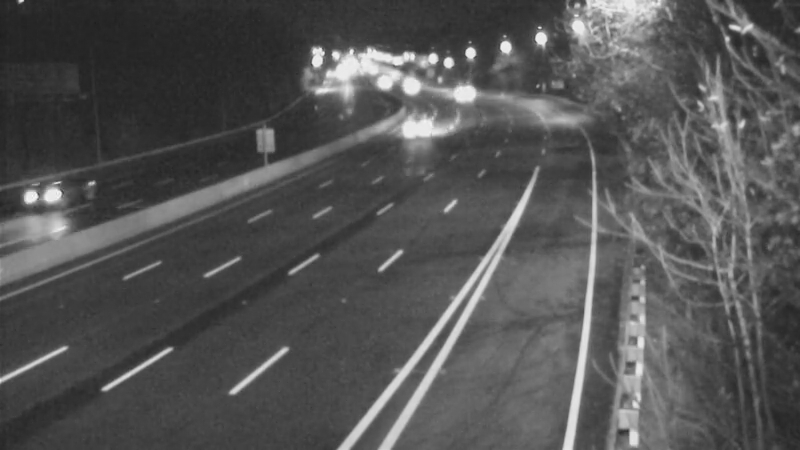vehicle: (14, 152, 94, 232), (433, 68, 483, 118), (398, 103, 448, 153)
